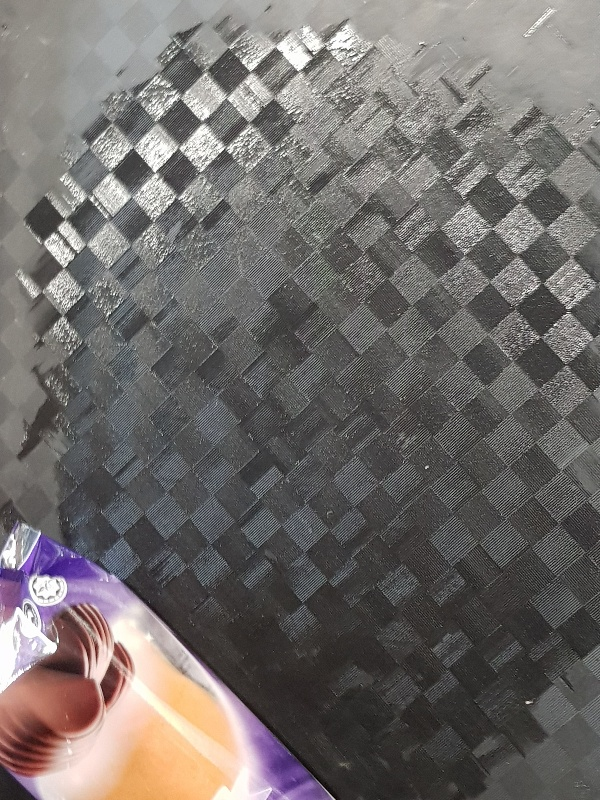Tinges Roll Chocolate: (1, 485, 338, 800)
